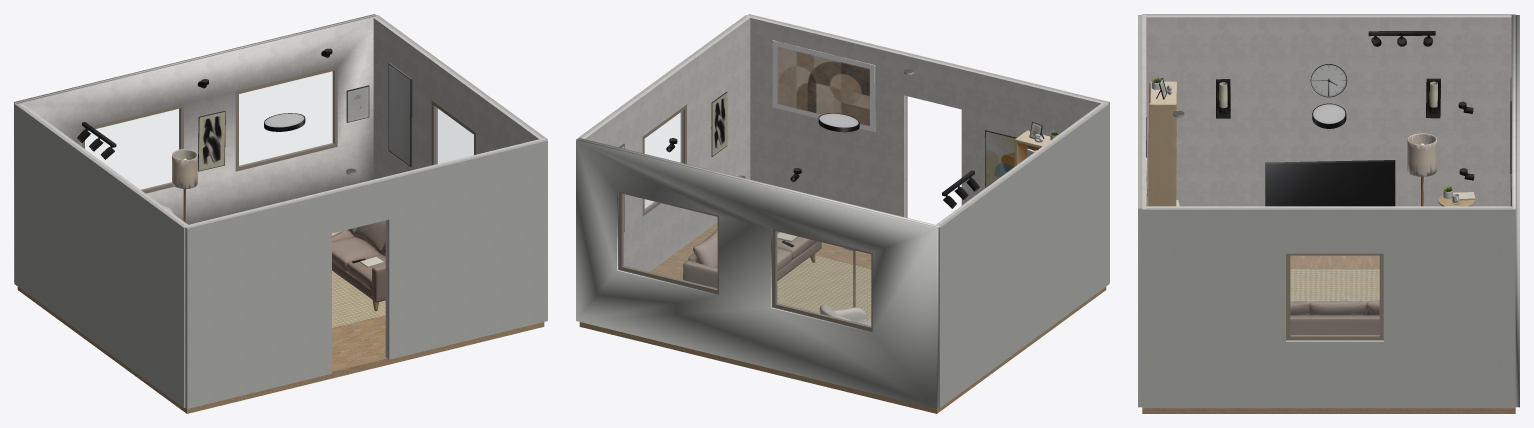
Rendered from scene_web.glb.
3 views of the same model, side by side, from view 1: azimuth 30°, elevation 25°; view 2: azimuth 150°, elevation 25°; view 3: azimuth 270°, elevation 25° (orthographic). The views are drawn at different scales.
Parts seen in each view (by area): view 1: geometry_0.003, geometry_0.007, geometry_0, geometry_0.004, glass.001, Mesh_0, glass, geometry_0.008, geometry_0.020, Mesh_0.001, frame.001, glass.002 (+11 smaller); view 2: geometry_0.001, geometry_0.007, geometry_0.002, geometry_0.004, glass.001, glass, Mesh_0.002, Mesh_0, Mesh_0.001, geometry_0.008, frame, frame.001 (+12 smaller); view 3: geometry_0.005, geometry_0.006, glass.002, geometry_0.014, Mesh_0, geometry_0.013, geometry_0.008, Mesh_0.001, geometry_0.001, geometry_0.003, frame.002, geometry_0.012 (+9 smaller).
Boxes of the visible parts, bbox=[...] form: geometry_0.003: bbox=[185, 139, 547, 408]; geometry_0.007: bbox=[14, 103, 185, 407]; geometry_0: bbox=[16, 15, 377, 224]; geometry_0.004: bbox=[373, 17, 542, 179]; glass.001: bbox=[239, 71, 333, 165]; Mesh_0: bbox=[17, 287, 544, 413]; glass: bbox=[85, 109, 179, 189]; geometry_0.008: bbox=[332, 185, 385, 310]; geometry_0.020: bbox=[388, 63, 412, 166]; Mesh_0.001: bbox=[332, 271, 385, 327]; frame.001: bbox=[235, 66, 337, 171]; glass.002: bbox=[435, 107, 473, 163]; geometry_0.001: bbox=[576, 139, 938, 408]; geometry_0.007: bbox=[938, 103, 1109, 407]; geometry_0.002: bbox=[746, 15, 1107, 217]; geometry_0.004: bbox=[581, 17, 750, 271]; glass.001: bbox=[623, 194, 717, 288]; glass: bbox=[777, 232, 870, 326]; Mesh_0.002: bbox=[772, 40, 875, 131]; Mesh_0: bbox=[579, 222, 1106, 413]; Mesh_0.001: bbox=[777, 256, 871, 319]; geometry_0.008: bbox=[683, 229, 821, 288]; frame: bbox=[772, 228, 872, 331]; frame.001: bbox=[618, 191, 718, 293]; geometry_0.005: bbox=[1142, 208, 1515, 408]; geometry_0.006: bbox=[1146, 15, 1511, 206]; glass.002: bbox=[1290, 256, 1379, 335]; geometry_0.014: bbox=[1265, 160, 1395, 206]; Mesh_0: bbox=[1142, 255, 1515, 413]; geometry_0.013: bbox=[1148, 81, 1176, 206]; geometry_0.008: bbox=[1290, 300, 1379, 334]; Mesh_0.001: bbox=[1290, 269, 1379, 302]; geometry_0.001: bbox=[1515, 15, 1519, 407]; geometry_0.003: bbox=[1138, 15, 1142, 407]; frame.002: bbox=[1286, 253, 1383, 340]; geometry_0.012: bbox=[1407, 133, 1436, 206].
Bounding box in the file's own units: 5.7 × 2.8 × 4.7.
39 materials, 37 textured.
